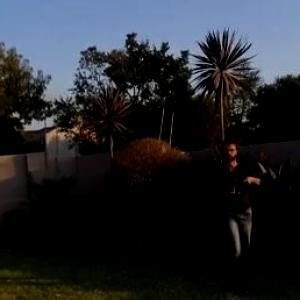follow: (215, 134, 278, 296)
